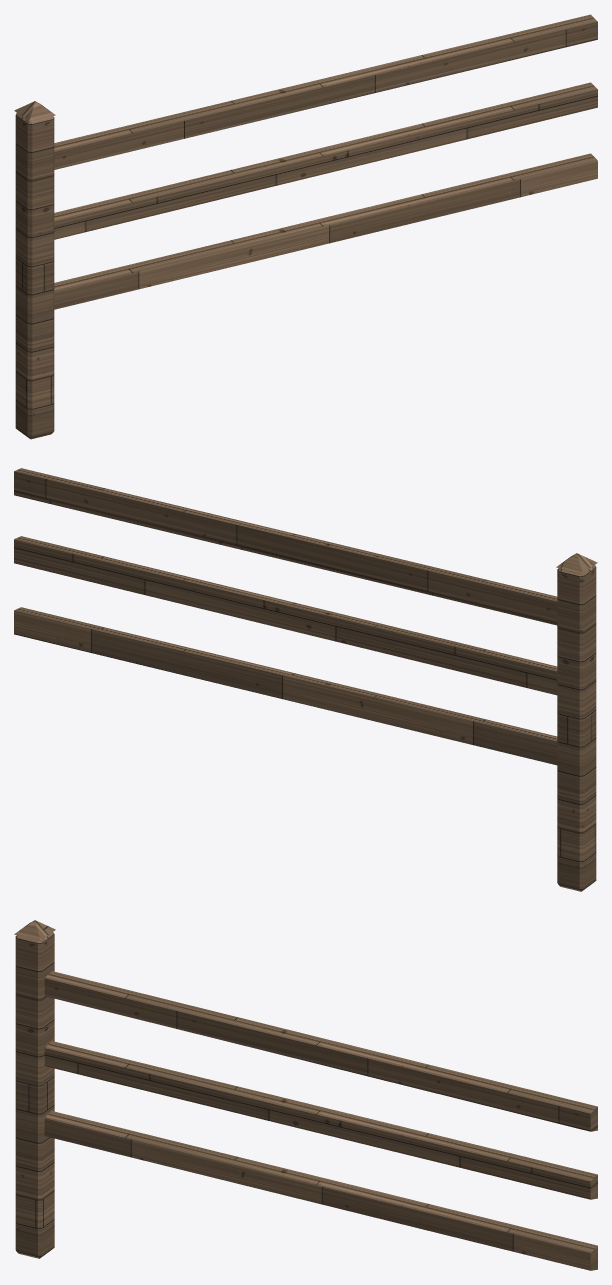
The model's file is rail_fence.glb.
The picture shows the model from 3 angles, top to bottom: view 1: azimuth 30°, elevation 25°; view 2: azimuth 150°, elevation 25°; view 3: azimuth 330°, elevation 25°; orthographic projection.
Visible parts, largest first — view 1: rail_fence_rail; view 2: rail_fence_rail; view 3: rail_fence_rail.
Part boxes in pixels (left/top/right/bottom): rail_fence_rail: left=14, top=14, right=597, bottom=439; rail_fence_rail: left=14, top=468, right=597, bottom=891; rail_fence_rail: left=14, top=920, right=597, bottom=1270.
Size of the model in its own units: 3 by 1.66 by 0.14.
Materials: 1 (1 with a texture image).
